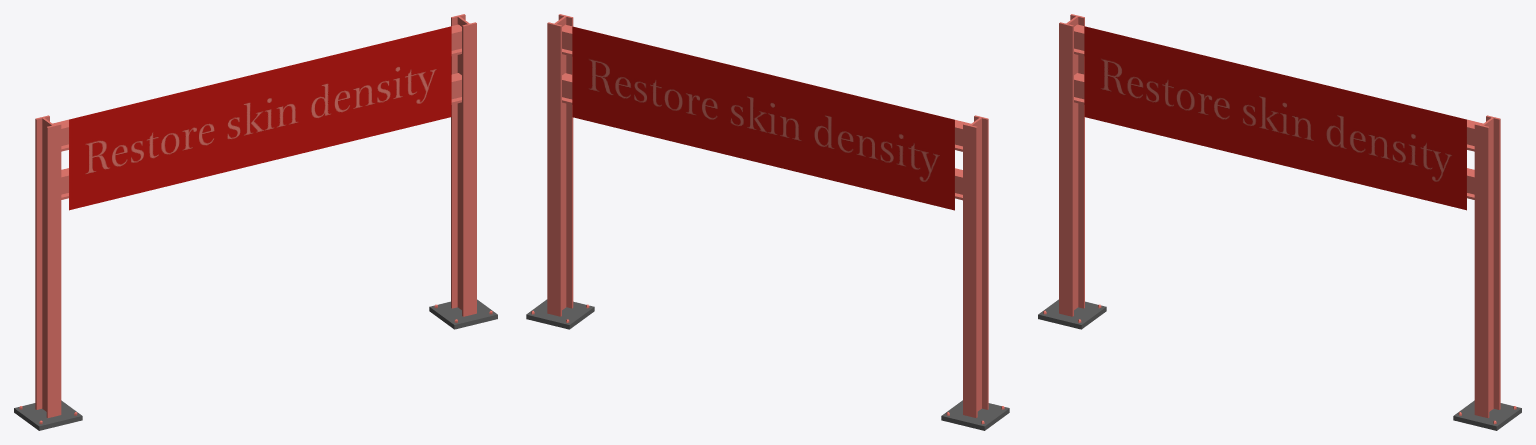
File: New_Arc_RESTORE.glb
3 renders of one model, left to right at view 1: azimuth 30°, elevation 25°; view 2: azimuth 150°, elevation 25°; view 3: azimuth 330°, elevation 25°, orthographic.
Parts seen in each view (by area): view 1: Banner_, Frame_, Base_; view 2: Banner_, Frame_, Base_; view 3: Banner_, Frame_, Base_.
Part boxes in pixels (box(x1,y1,x2,y2)): Banner_: box(69, 26, 451, 210); Frame_: box(35, 14, 476, 417); Base_: box(14, 299, 497, 430); Banner_: box(572, 26, 954, 210); Frame_: box(547, 14, 988, 417); Base_: box(526, 299, 1009, 430); Banner_: box(1084, 26, 1466, 210); Frame_: box(1059, 14, 1500, 417); Base_: box(1038, 299, 1521, 430).
Size of the model in its own units: 2115 by 1305 by 200.
3 materials, 1 textured.
